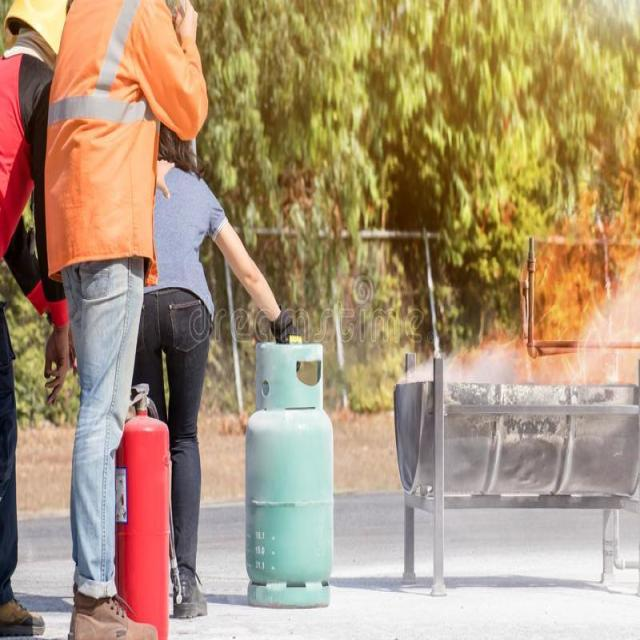fire_extinguisher: (108, 377, 174, 639)
